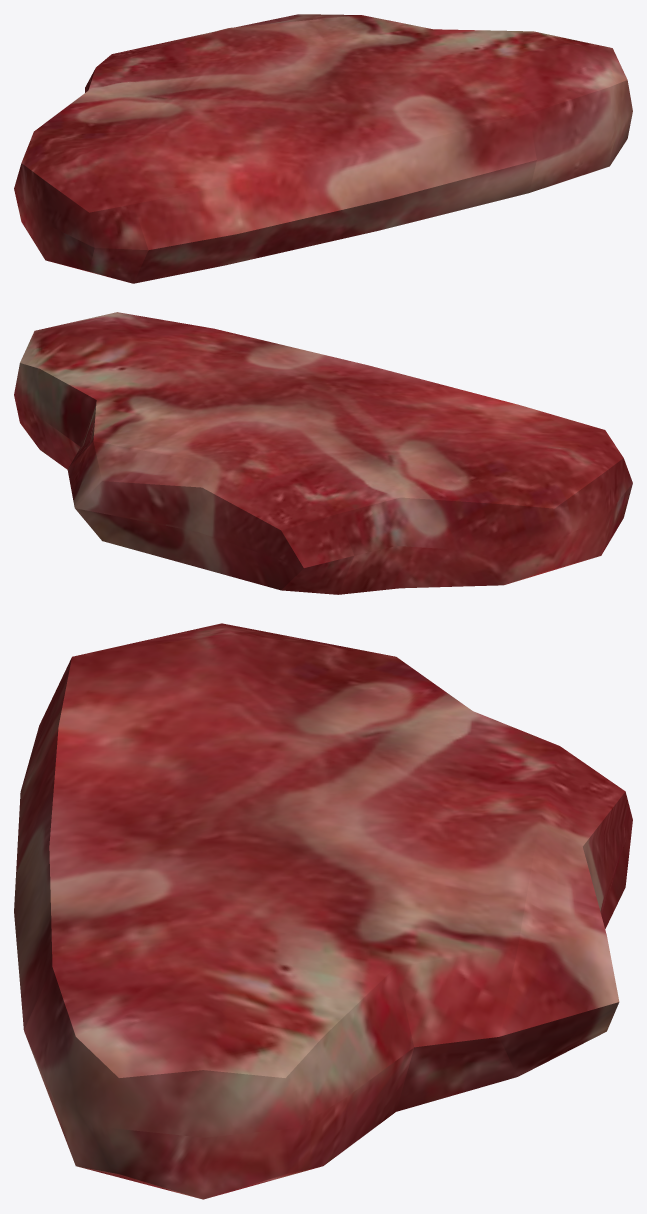
File: Beef_chuck.fbx
3 views of the same model, one above another, from view 1: azimuth 30°, elevation 25°; view 2: azimuth 150°, elevation 25°; view 3: azimuth 270°, elevation 25° (orthographic). The views are drawn at different scales.
Visible parts, largest first — view 1: chuck; view 2: chuck; view 3: chuck.
Part boxes in pixels (x1,y1,x2,y2): chuck: (14,14,632,283); chuck: (14,312,632,594); chuck: (14,623,632,1199).
Bounding box in the file's own units: 0.4063 × 0.0723 × 0.2348.
